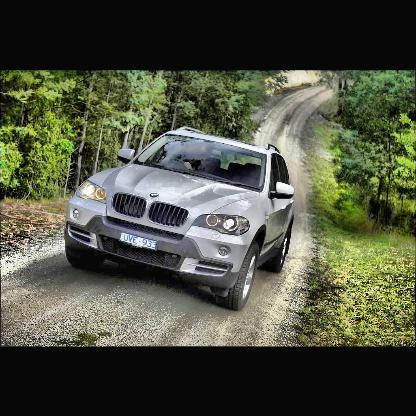BMW X5 SUV 2007: (65, 126, 297, 311)
